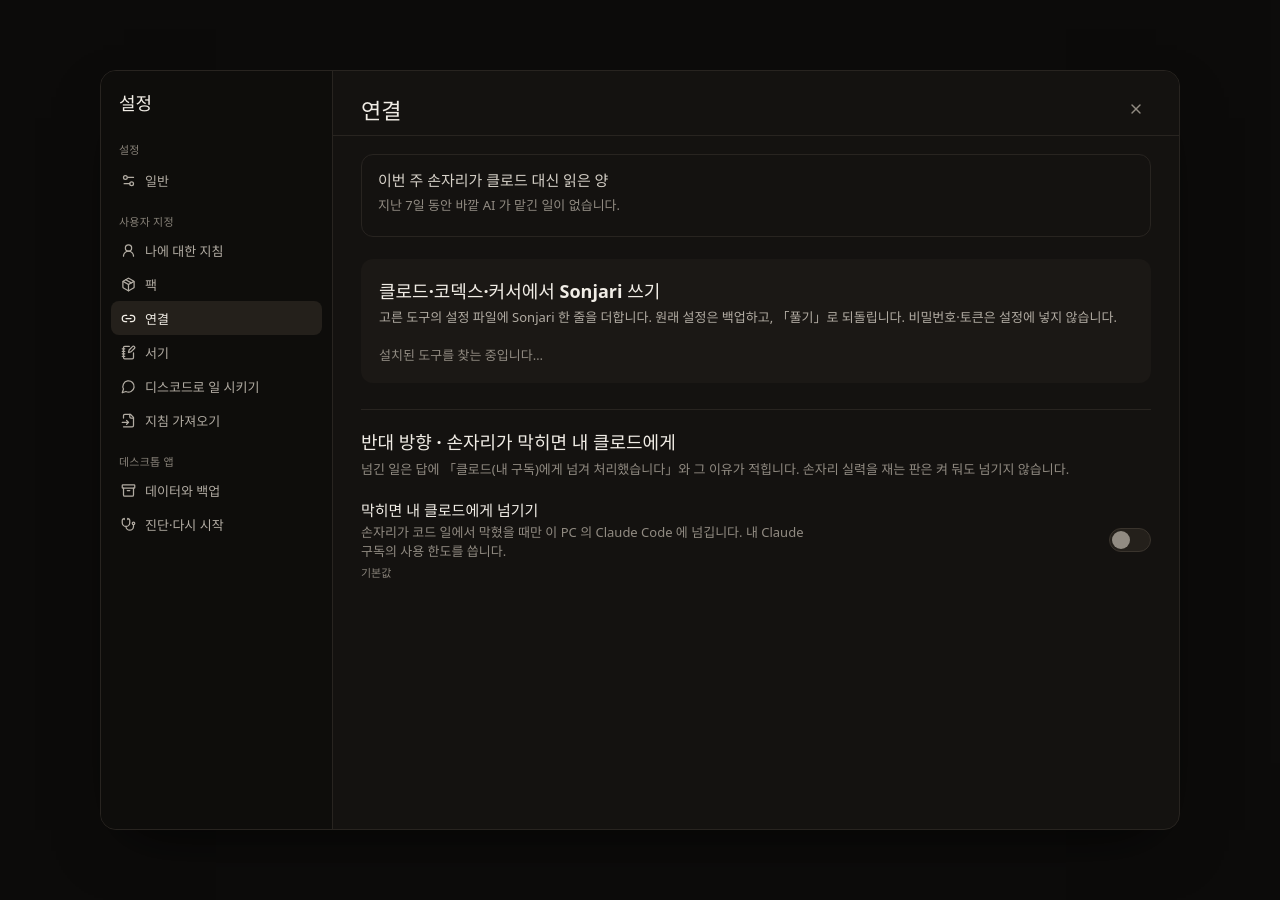
Test: 연결 화면의 이음 카드 뒤에 기본 꺼짐 스위치와 한 줄 설명을 그린다
The image size is (1280, 900).
Expected: the switch with id "setting-claude_code_enabled" is enabled, [1109,528,1151,552]
Click the button "일반" at (216, 180), box [111,163,322,197]
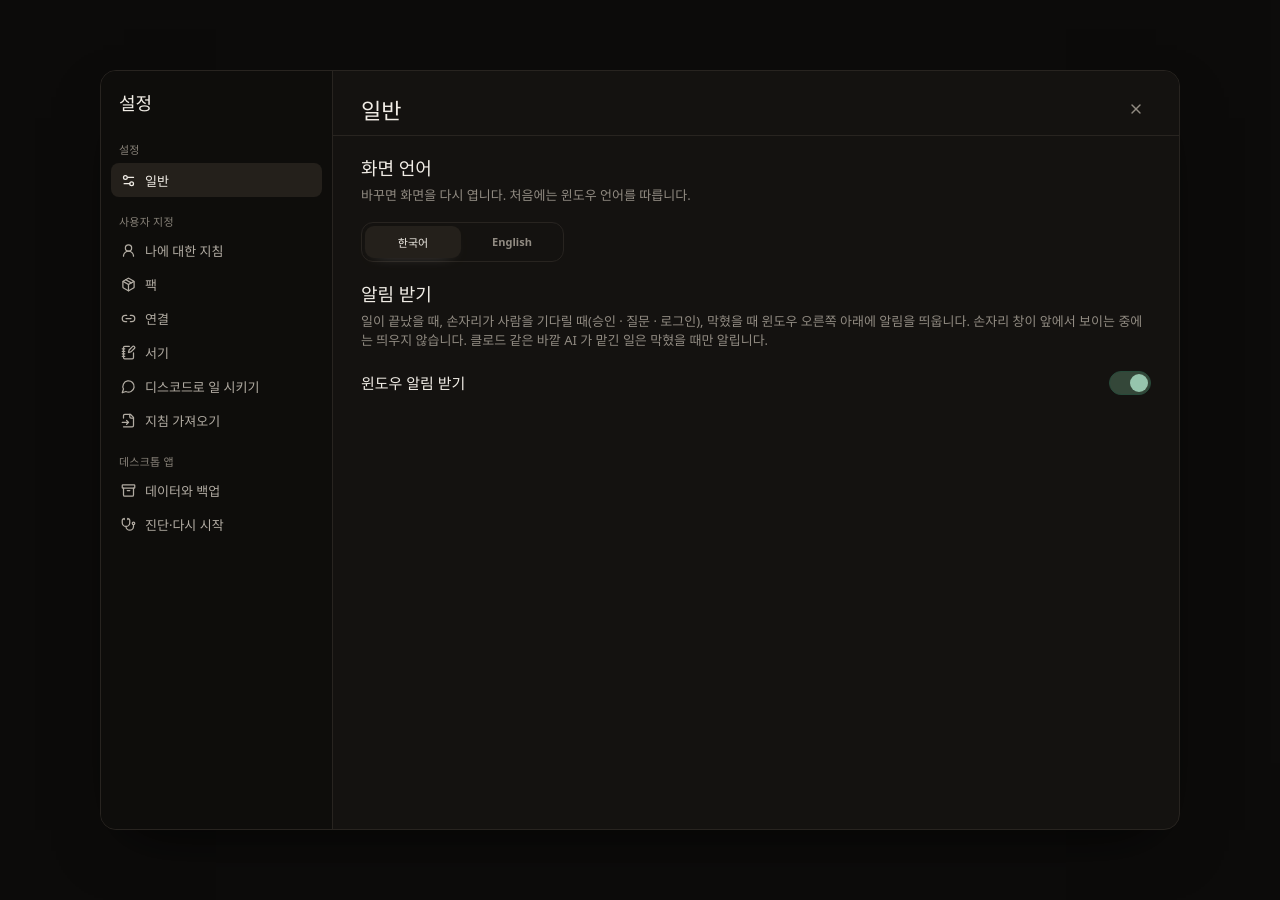
Now the label with id "setting-claude_code_enabled" is gone
